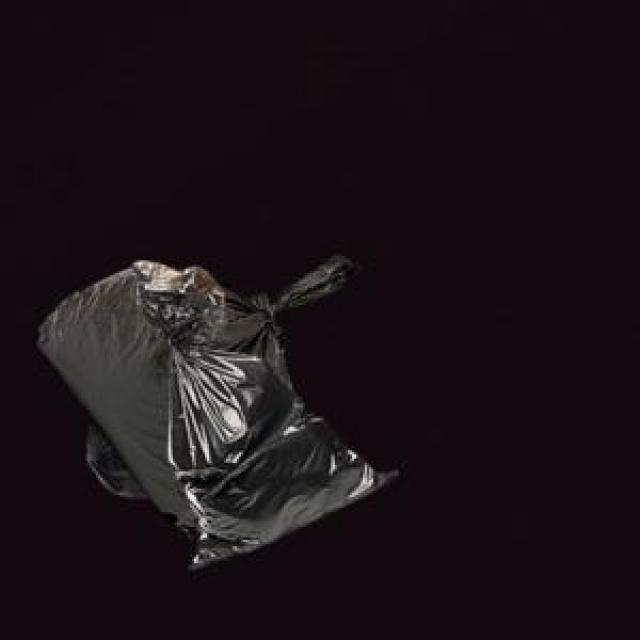garbage_bag: (32, 247, 403, 573)
